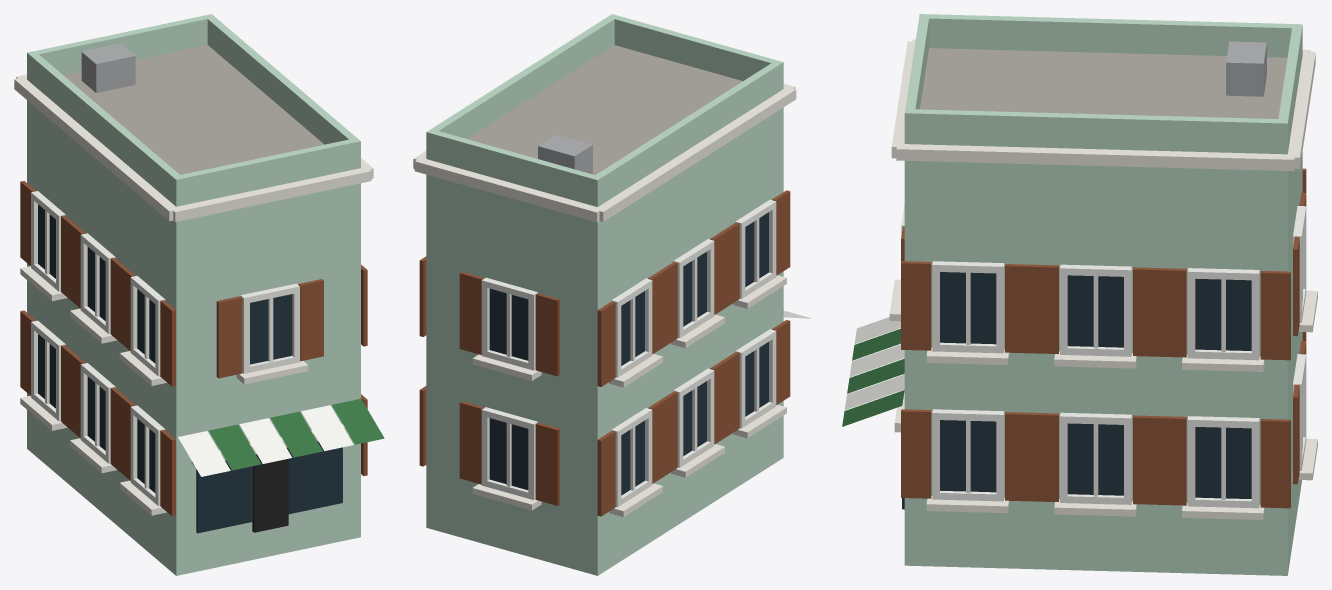
The picture shows the model from 3 angles, left to right: view 1: azimuth 30°, elevation 25°; view 2: azimuth 150°, elevation 25°; view 3: azimuth 270°, elevation 25°; orthographic projection. The views are drawn at different scales.
Parts seen in each view (by area): view 1: b11065; view 2: b11065; view 3: b11065.
Boxes of the visible parts, <box> form: b11065: <box>14,14,384,575</box>; b11065: <box>413,14,811,575</box>; b11065: <box>842,14,1317,575</box>.
Bounding box in the file's own units: 2359 × 4002 × 3786.
